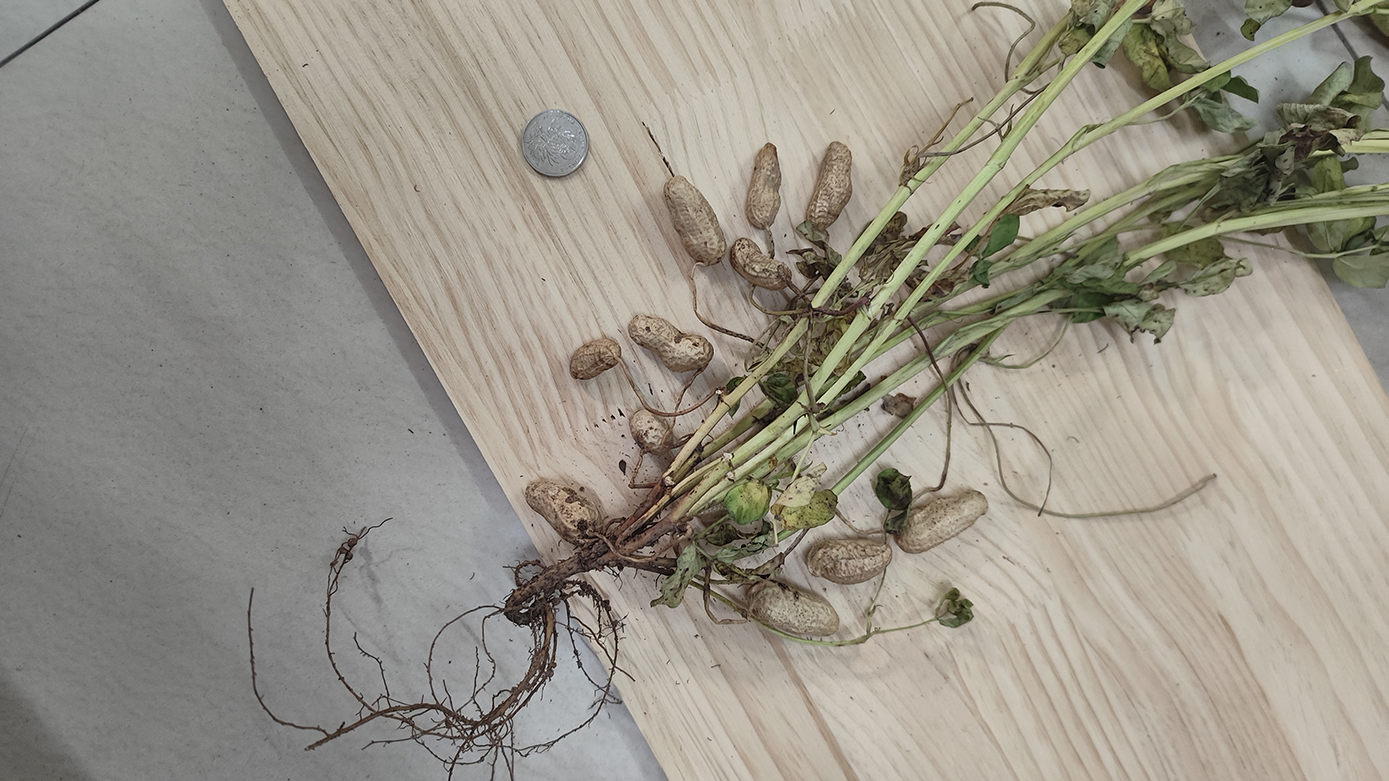h: (896, 490, 988, 554), (664, 175, 726, 265), (745, 580, 839, 637), (627, 313, 715, 371), (524, 481, 600, 544), (806, 140, 854, 232), (806, 538, 892, 584), (746, 141, 782, 231), (730, 238, 792, 290), (569, 338, 621, 379), (630, 408, 674, 454)
